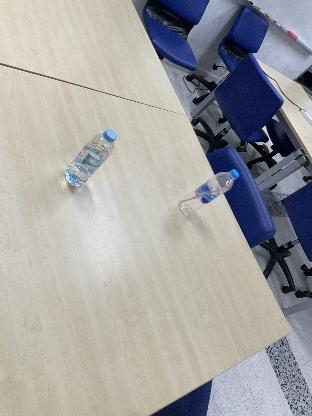Plastic Bottle: (63, 127, 116, 186), (178, 169, 239, 219)
